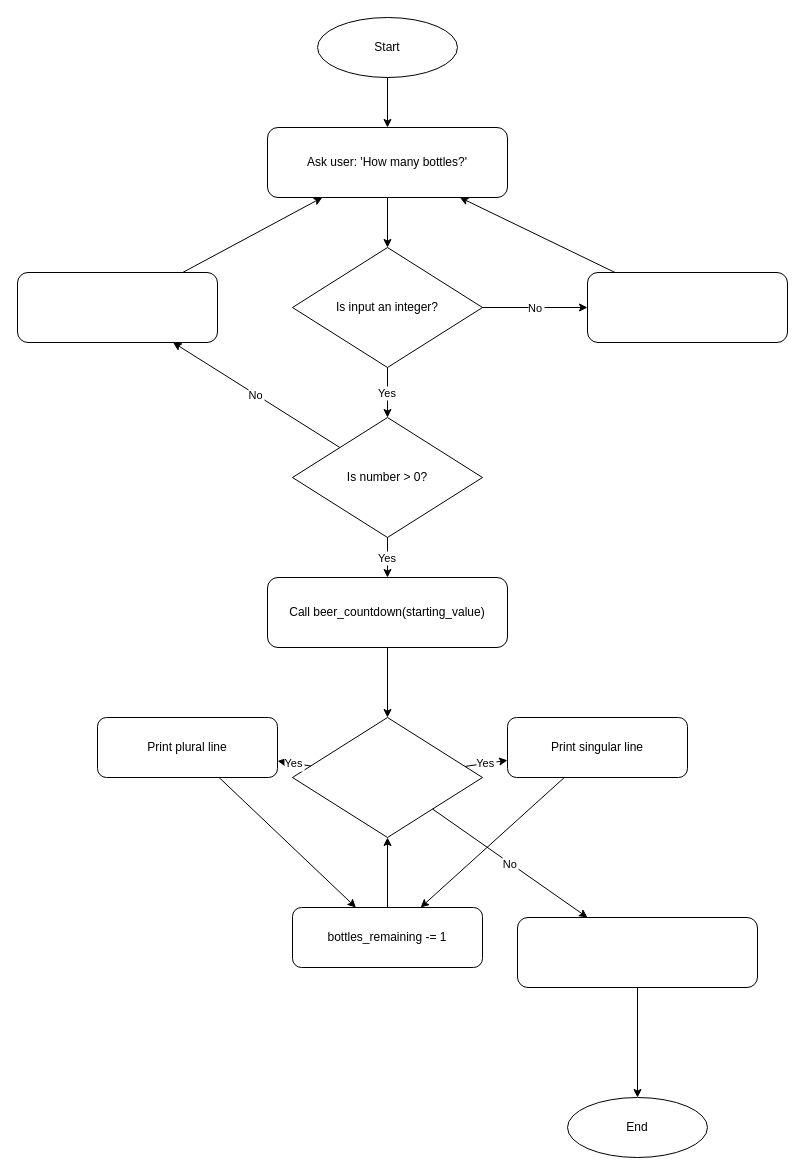
Some shapes in this 805 by 1175 pixel diagram are drawn without their labels. The centre of each missing label's shape, as x and y in pixels:
"bottles_remaining > 0?" belongs at point 387,777.
"Print: 'Enter a positive integer'" belongs at point 117,307.
"Print: 'Not a valid integer'" belongs at point 687,307.
"Print: 'Time to buy more beer!'" belongs at point 637,952.
